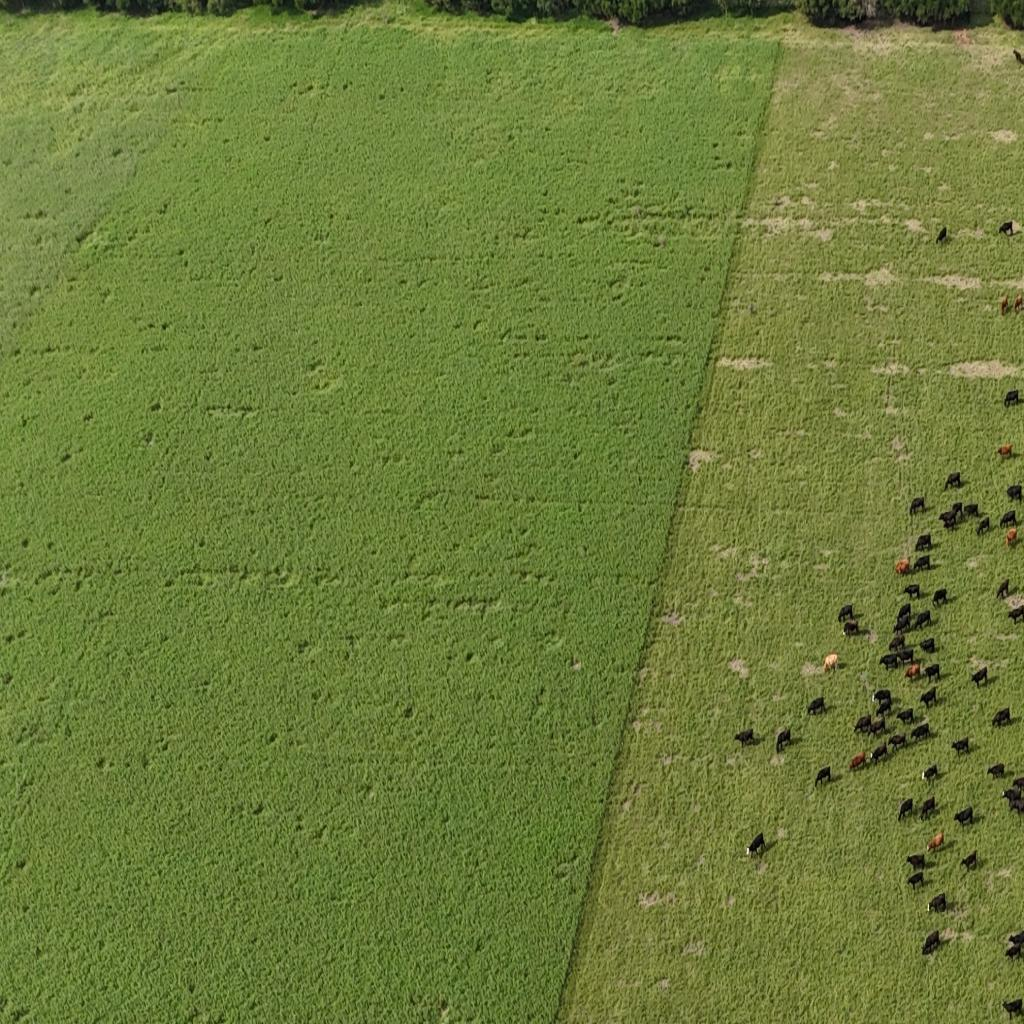cow: (746, 829, 768, 864), (1003, 994, 1024, 1024), (991, 703, 1014, 730), (1003, 933, 1024, 960), (932, 223, 955, 246), (922, 930, 941, 956), (906, 852, 928, 874), (872, 690, 892, 713), (918, 795, 936, 820), (895, 651, 916, 672), (954, 806, 974, 828), (920, 686, 938, 710), (894, 604, 912, 628), (910, 722, 930, 743), (814, 766, 832, 789), (898, 797, 914, 822), (879, 652, 899, 672), (1001, 786, 1021, 806), (928, 892, 947, 913), (734, 728, 755, 747), (940, 510, 958, 532), (854, 714, 872, 736), (926, 830, 944, 852), (776, 728, 791, 754), (913, 554, 932, 574), (952, 736, 970, 757), (921, 763, 939, 784), (870, 744, 887, 766), (1000, 509, 1018, 529), (808, 696, 826, 716), (888, 732, 906, 752), (888, 635, 908, 653), (971, 667, 988, 688), (838, 603, 855, 624), (960, 850, 977, 871), (870, 716, 886, 738), (907, 871, 925, 890), (1006, 608, 1024, 627), (915, 532, 932, 552), (923, 664, 940, 684), (914, 610, 931, 630), (823, 652, 839, 673), (987, 762, 1005, 780), (897, 708, 915, 726), (842, 620, 860, 638), (849, 752, 866, 771), (910, 496, 926, 516), (1005, 484, 1022, 502), (944, 473, 961, 491), (904, 663, 921, 681), (932, 588, 948, 607), (1004, 389, 1020, 408), (998, 219, 1015, 236), (904, 583, 920, 601), (920, 637, 936, 655), (892, 620, 908, 638), (949, 501, 964, 520), (977, 516, 991, 536), (996, 579, 1010, 599), (964, 502, 980, 519), (996, 443, 1013, 459), (895, 558, 910, 576), (1006, 527, 1018, 548), (1010, 49, 1022, 66), (1000, 296, 1010, 316), (1014, 483, 1024, 503), (1015, 605, 1024, 625), (1015, 797, 1024, 817), (1014, 930, 1024, 948), (1015, 389, 1024, 405), (1016, 775, 1024, 792), (1018, 294, 1024, 312), (1018, 48, 1024, 65)
